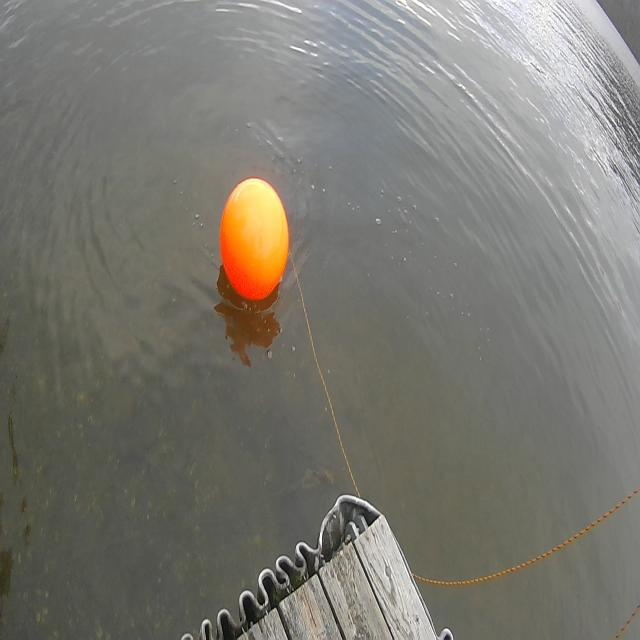Buoy: (212, 169, 292, 311)
